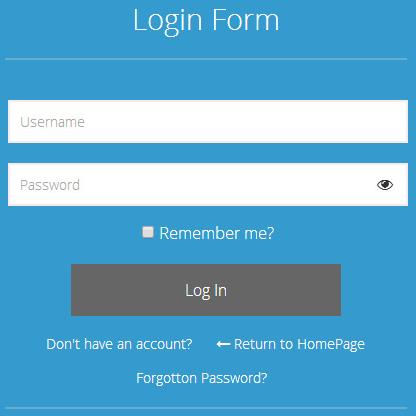button: (69, 263, 343, 317)
checkbox: (141, 226, 159, 240)
checkbox_with_label: (137, 223, 273, 242)
field: (5, 162, 410, 208), (5, 99, 410, 144)
